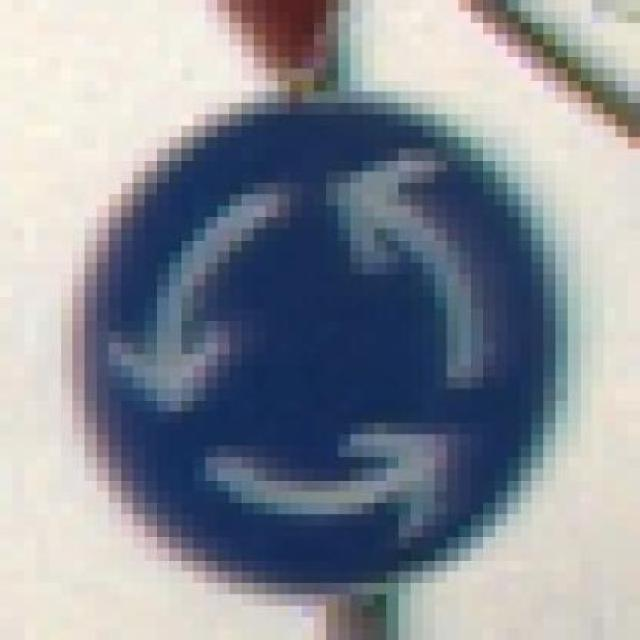Round-About: (49, 91, 592, 594)
